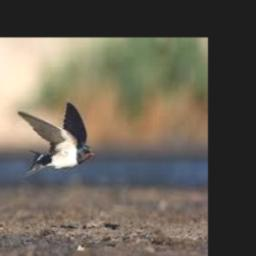Swallow: (18, 102, 94, 177)
